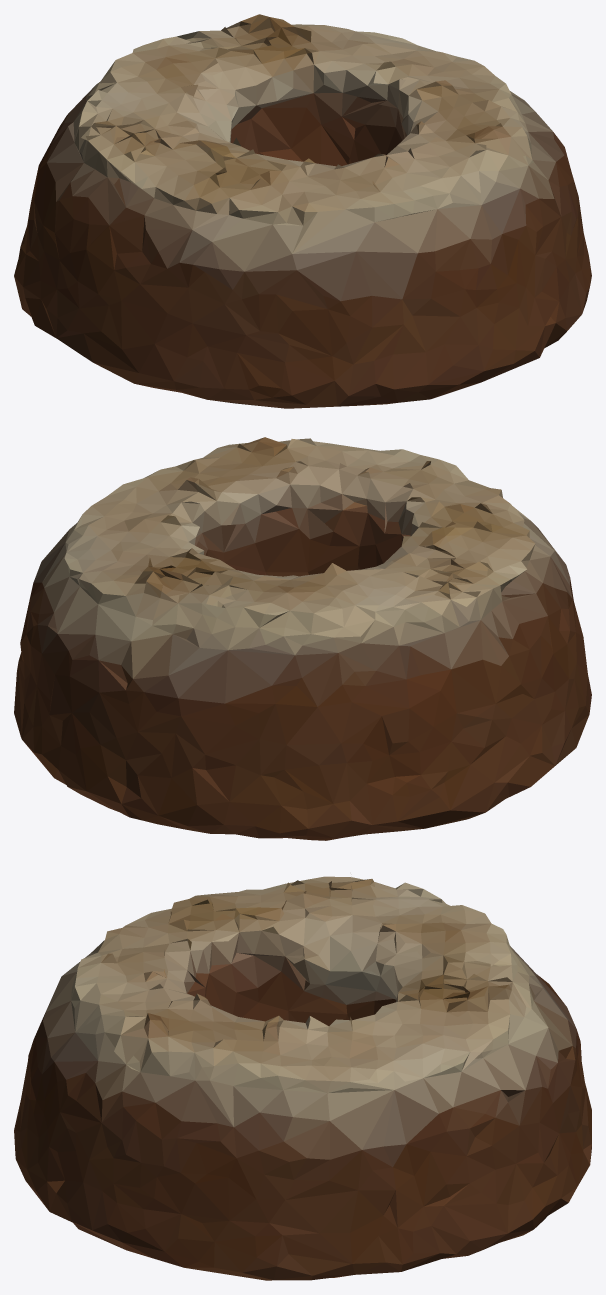
The picture shows the model from 3 angles, top to bottom: view 1: azimuth 30°, elevation 25°; view 2: azimuth 150°, elevation 25°; view 3: azimuth 270°, elevation 25°; orthographic projection. The views are drawn at different scales.
Bounding box in the file's own units: 1.36 × 0.5635 × 1.36.
